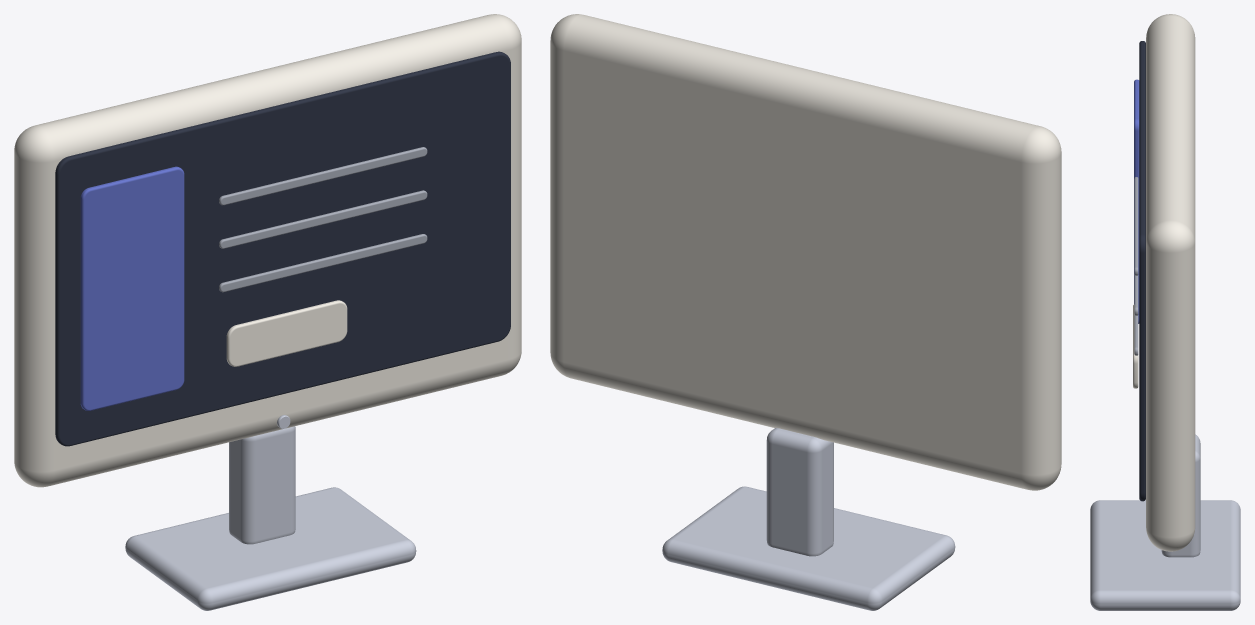
Rendered from display.glb.
The picture shows the model from 3 angles, left to right: view 1: azimuth 30°, elevation 25°; view 2: azimuth 150°, elevation 25°; view 3: azimuth 270°, elevation 25°; orthographic projection. The views are drawn at different scales.
Visible parts, largest first — view 1: display; view 2: display; view 3: display.
Part boxes in pixels (x1,y1,x2,y2): display: [14, 14, 521, 610]; display: [550, 14, 1061, 610]; display: [1090, 14, 1240, 610].
Bounding box in the file's own units: 2.05 × 1.9 × 0.58.
